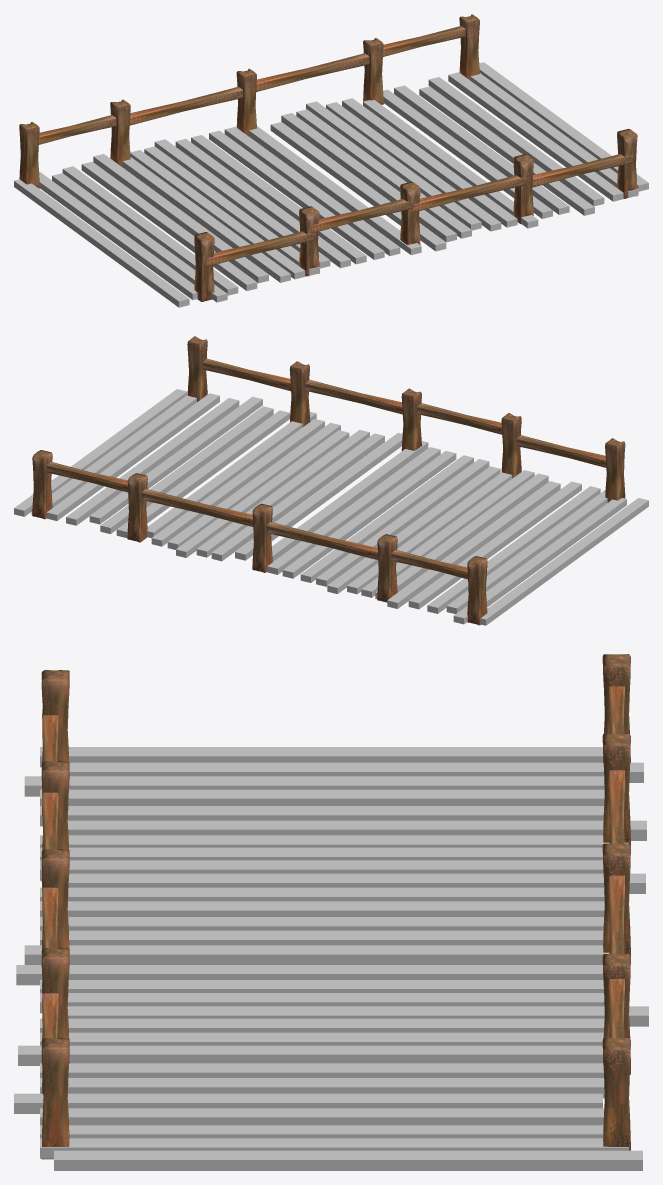
Rendered from new bridge final 1.fbx.
3 renders of one model, top to bottom at view 1: azimuth 30°, elevation 25°; view 2: azimuth 150°, elevation 25°; view 3: azimuth 270°, elevation 25°, orthographic. The views are drawn at different scales.
Parts seen in each view (by area): view 1: Wood Plank High Poly, Wood Plank High Poly.026, Wood Plank High Poly.001, Wood Plank High Poly.025, Wood Plank High Poly.012, Wood Plank High Poly.006, Wood Plank High Poly.020, Wood Plank High Poly.014, Wood Plank High Poly.016, Wood Plank High Poly.013, Wood Plank High Poly.023, Wood Plank High Poly.004 (+35 smaller); view 2: Wood Plank High Poly, Wood Plank High Poly.012, Wood Plank High Poly.026, Wood Plank High Poly.005, Wood Plank High Poly.020, Wood Plank High Poly.024, Wood Plank High Poly.016, Wood Plank High Poly.001, Wood Plank High Poly.025, Wood Plank High Poly.004, Wood Plank High Poly.013, Wood Plank High Poly.011 (+35 smaller); view 3: Wood Plank High Poly.028, Wood Plank High Poly.014, Wood Plank High Poly.021, Wood Plank High Poly.025, Wood Plank High Poly.003, Wood Plank High Poly.024, Wood Plank High Poly.005, Wood Plank High Poly.011, Wood Plank High Poly.023, Wood Plank High Poly, Wood Plank High Poly.013, Wood Plank High Poly.015 (+35 smaller).
Boxes of the visible parts, left/top/right/bottom form: Wood Plank High Poly: left=14, top=179, right=189, bottom=307; Wood Plank High Poly.026: left=448, top=72, right=623, bottom=201; Wood Plank High Poly.001: left=39, top=171, right=197, bottom=299; Wood Plank High Poly.025: left=428, top=77, right=604, bottom=206; Wood Plank High Poly.012: left=209, top=130, right=384, bottom=259; Wood Plank High Poly.006: left=122, top=157, right=290, bottom=282; Wood Plank High Poly.020: left=342, top=98, right=517, bottom=227; Wood Plank High Poly.014: left=249, top=126, right=421, bottom=255; Wood Plank High Poly.016: left=281, top=113, right=456, bottom=242; Wood Plank High Poly.013: left=224, top=126, right=400, bottom=255; Wood Plank High Poly.023: left=394, top=85, right=569, bottom=214; Wood Plank High Poly.004: left=81, top=161, right=257, bottom=290; Wood Plank High Poly: left=480, top=498, right=648, bottom=625; Wood Plank High Poly.012: left=282, top=451, right=456, bottom=578; Wood Plank High Poly.026: left=46, top=393, right=219, bottom=520; Wood Plank High Poly.005: left=387, top=481, right=560, bottom=608; Wood Plank High Poly.020: left=151, top=419, right=324, bottom=546; Wood Plank High Poly.024: left=89, top=396, right=262, bottom=524; Wood Plank High Poly.016: left=211, top=433, right=384, bottom=561; Wood Plank High Poly.001: left=453, top=498, right=626, bottom=624; Wood Plank High Poly.025: left=66, top=398, right=239, bottom=525; Wood Plank High Poly.004: left=408, top=481, right=581, bottom=609; Wood Plank High Poly.013: left=267, top=447, right=440, bottom=574; Wood Plank High Poly.011: left=300, top=455, right=473, bottom=582; Wood Plank High Poly.028: left=54, top=1150, right=642, bottom=1170; Wood Plank High Poly.014: left=24, top=945, right=609, bottom=964; Wood Plank High Poly.021: left=18, top=1045, right=602, bottom=1065; Wood Plank High Poly.025: left=40, top=1108, right=604, bottom=1125; Wood Plank High Poly.003: left=40, top=789, right=604, bottom=805; Wood Plank High Poly.024: left=14, top=1093, right=602, bottom=1113; Wood Plank High Poly.005: left=67, top=820, right=646, bottom=840; Wood Plank High Poly.011: left=40, top=901, right=604, bottom=916; Wood Plank High Poly.023: left=40, top=1078, right=604, bottom=1098; Wood Plank High Poly: left=40, top=747, right=603, bottom=767; Wood Plank High Poly.013: left=40, top=930, right=603, bottom=945; Wood Plank High Poly.015: left=16, top=965, right=603, bottom=985.
Bounding box in the file's own units: 1594 × 201 × 1036.
